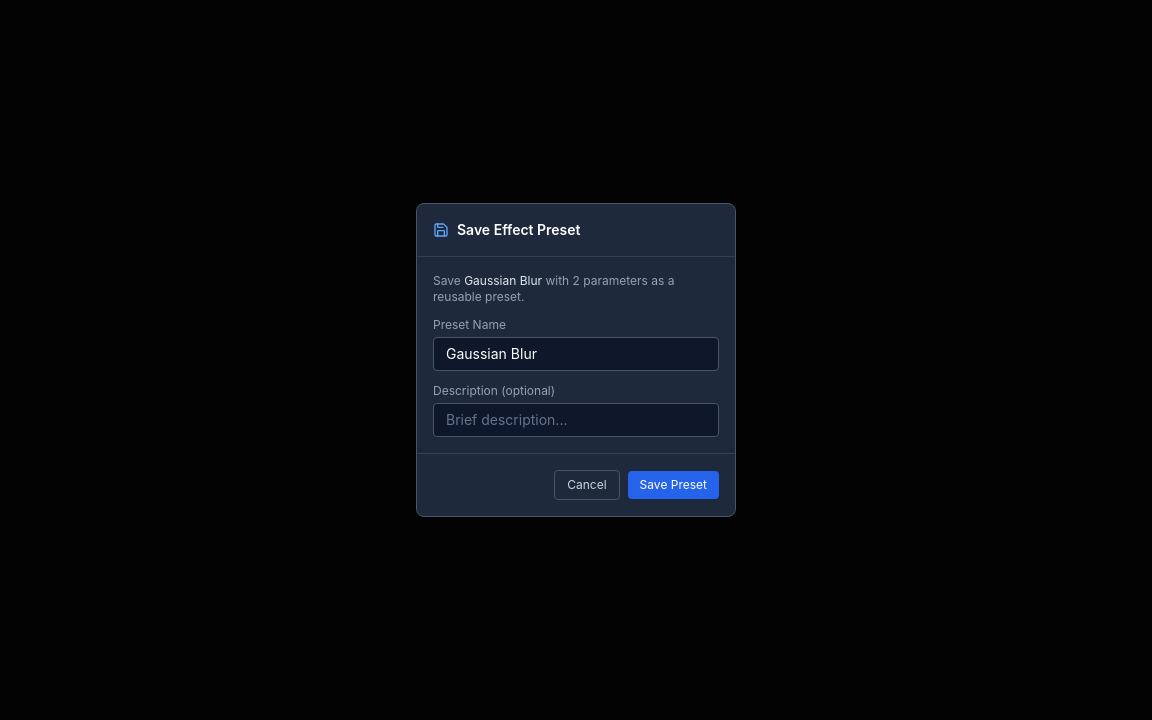
Test: SaveEffectPresetDialog › user interactions › should disable Save button when name is empty
This screenshot has width=1152, height=720.
Clear the field with test id "preset-name-input" at (576, 354), box [433,337,719,371]
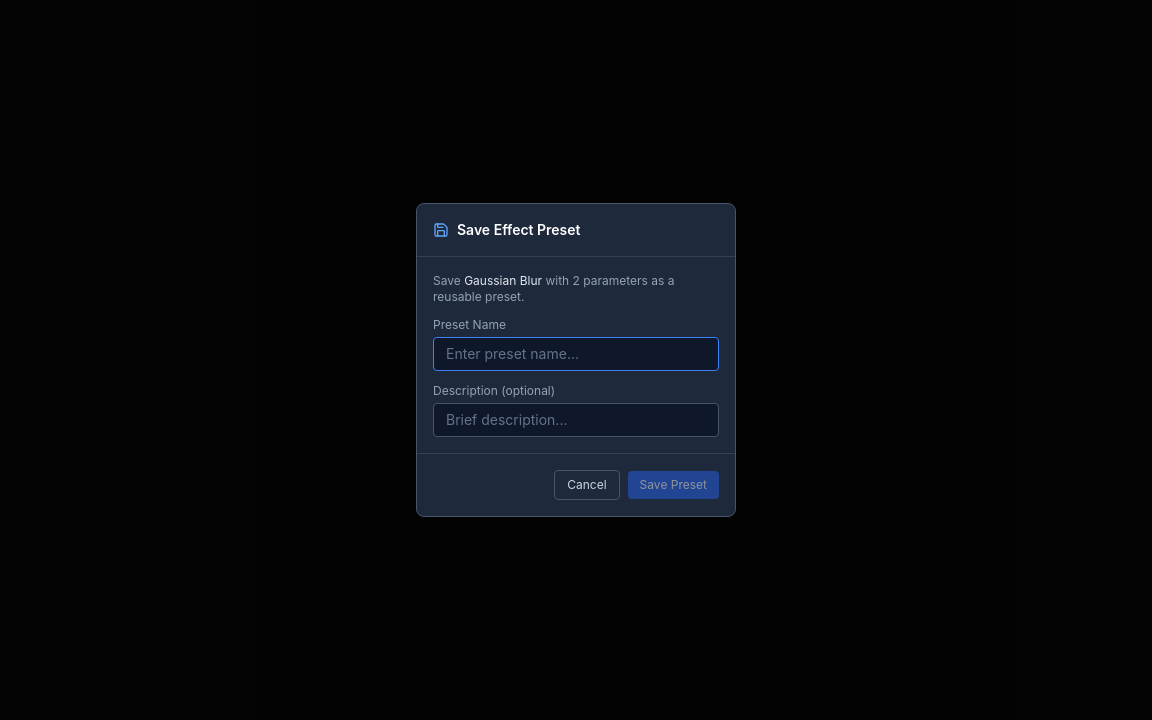
Now the button with test id "preset-save-btn" is disabled, box [628,471,719,499]
